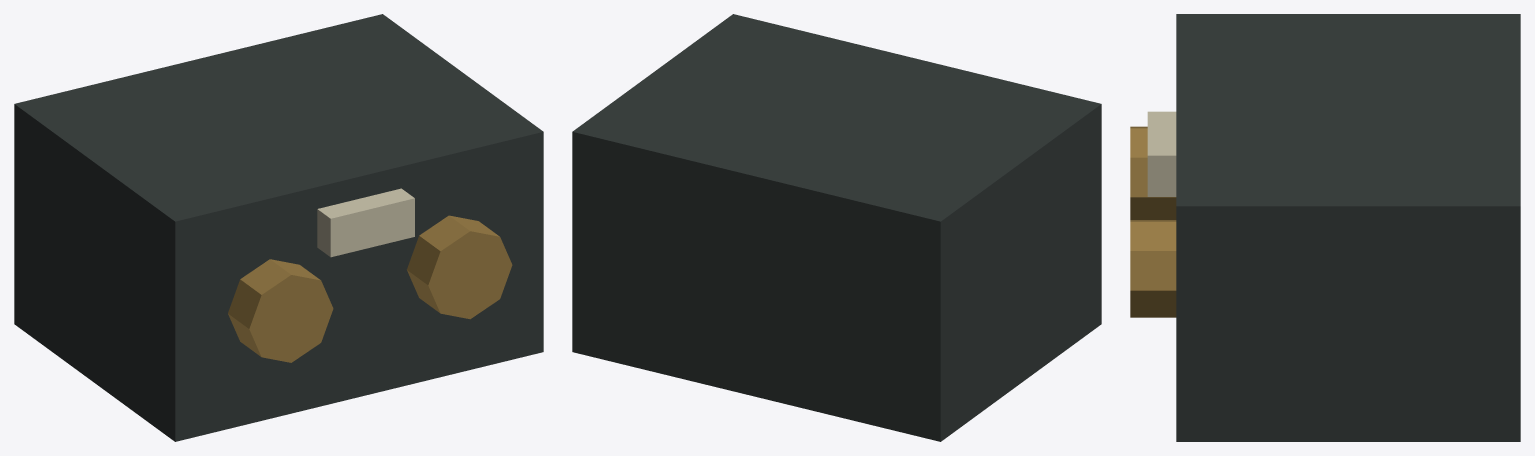
Rendered from FRM_021_F_LODs.fbx.
The picture shows the model from 3 angles, left to right: view 1: azimuth 30°, elevation 25°; view 2: azimuth 150°, elevation 25°; view 3: azimuth 270°, elevation 25°; orthographic projection. The views are drawn at different scales.
Parts seen in each view (by area): view 1: FRM_021_F_LOD0; view 2: FRM_021_F_LOD0; view 3: FRM_021_F_LOD0.
Boxes of the visible parts, box(x1,y1,x2,y2) form: FRM_021_F_LOD0: box(14, 14, 543, 441); FRM_021_F_LOD0: box(572, 14, 1101, 441); FRM_021_F_LOD0: box(1130, 14, 1520, 441).
Size of what is drawn, in the model's own units: 0.35 by 0.2 by 0.3.
